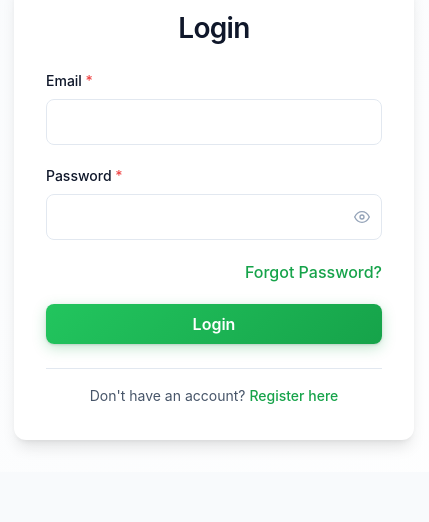
Scenario: LoginPage › clears a field error as soon as the user types
Submit the form, box [46,70,382,344]
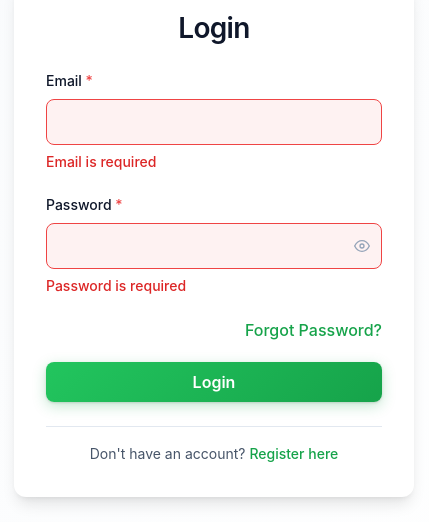
Expected: the text "Email is required" is shown, [46,153,156,170]
Type "a" into the field labelled "Email" at [214, 122], box [46,99,382,145]
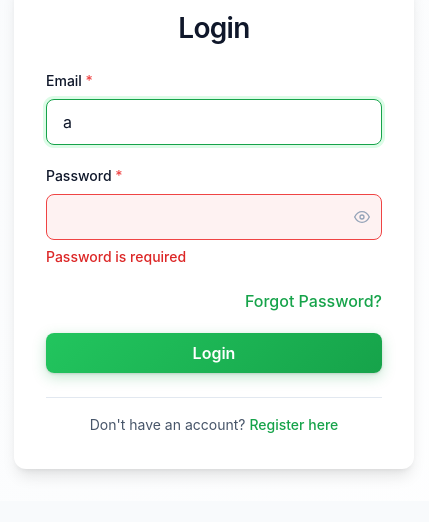
Expected: the text "Email is required" is gone
